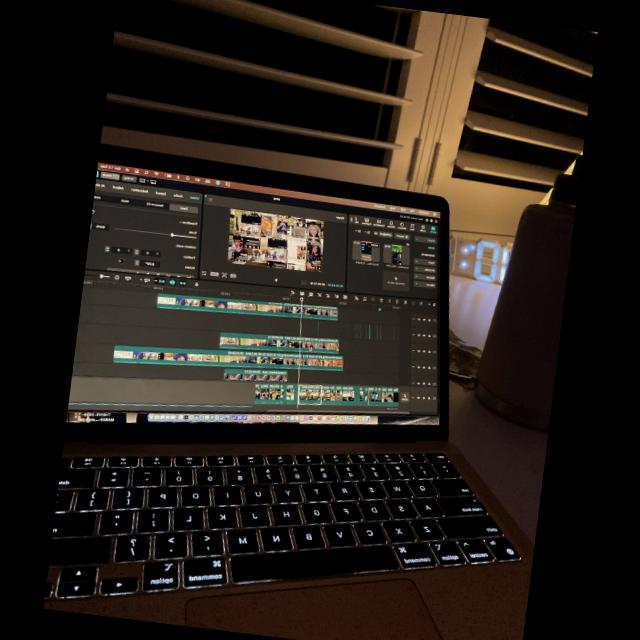laptop: (42, 141, 565, 640)
